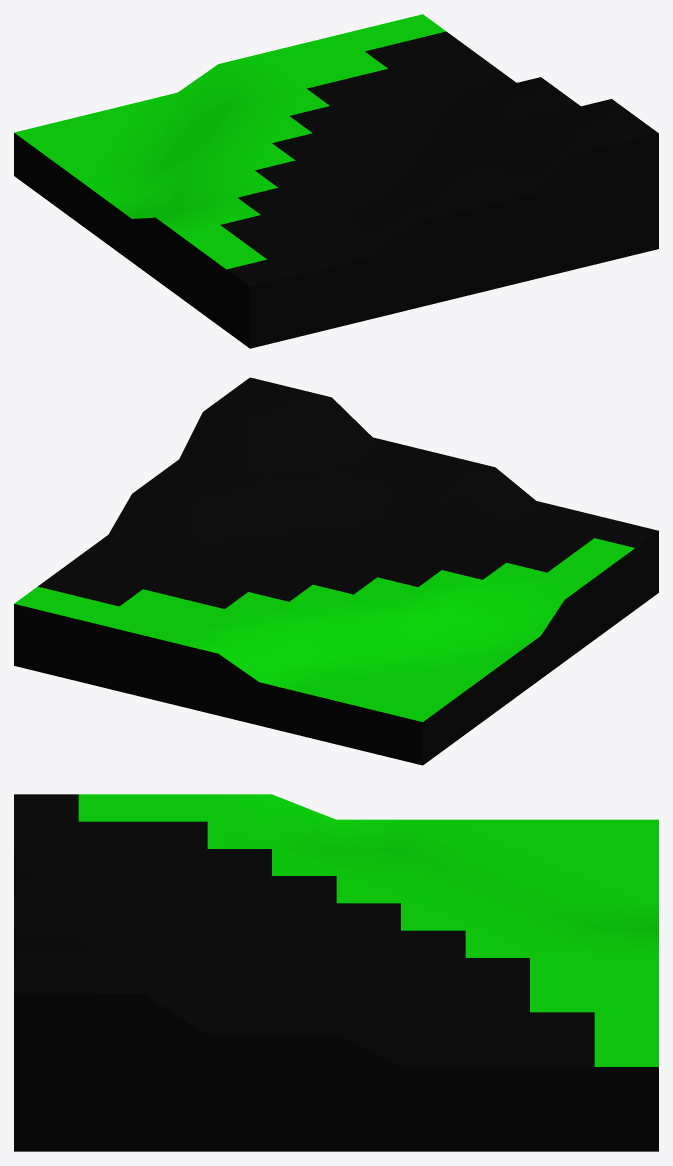
File: MeshAnalize.fbx
3 renders of one model, top to bottom at view 1: azimuth 30°, elevation 25°; view 2: azimuth 150°, elevation 25°; view 3: azimuth 270°, elevation 25°, orthographic. The views are drawn at different scales.
Parts seen in each view (by area): view 1: MeshAnaliser; view 2: MeshAnaliser; view 3: MeshAnaliser.
Boxes of the visible parts, box(x1,y1,x2,y2) form: MeshAnaliser: box(14, 14, 658, 348); MeshAnaliser: box(14, 377, 658, 765); MeshAnaliser: box(14, 794, 658, 1151).
Bounding box in the file's own units: 10 × 2.7 × 10.
